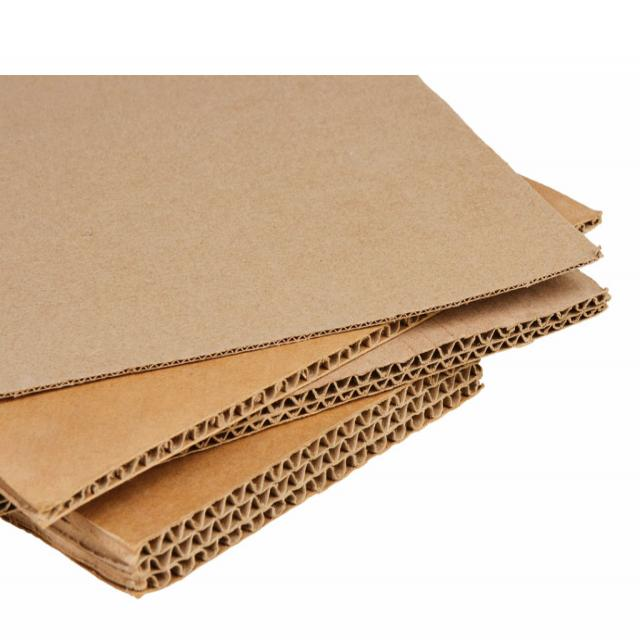Carton: (0, 65, 619, 608)
